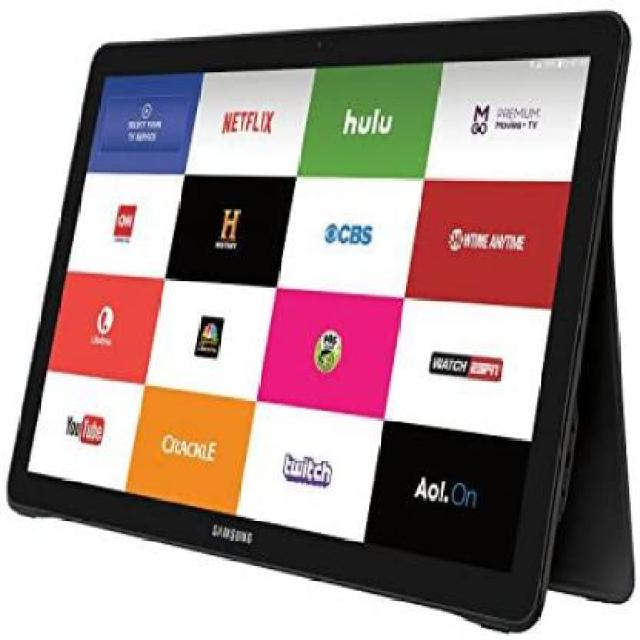tablet: (8, 41, 638, 624)
